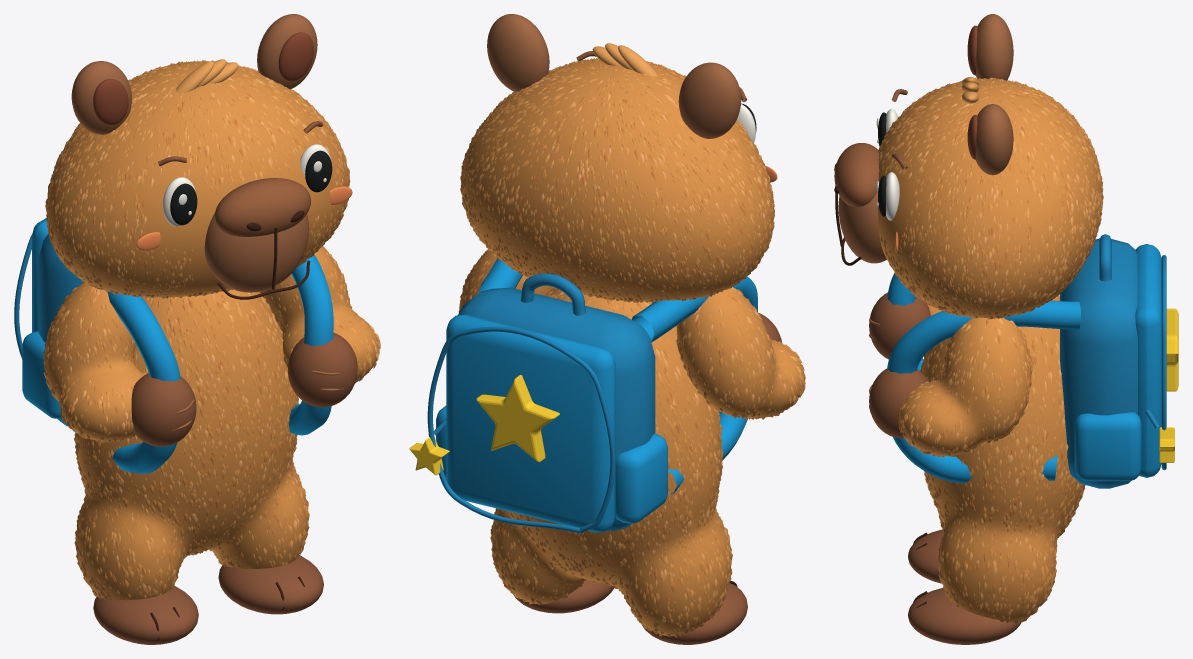
File: mascot.glb
3 views of the same model, side by side, from view 1: azimuth 30°, elevation 25°; view 2: azimuth 150°, elevation 25°; view 3: azimuth 270°, elevation 25° (orthographic). The views are drawn at different scales.
Parts seen in each view (by area): view 1: body_sculpt, head_sculpt, body_sculpt_short_fur, head_sculpt_short_fur, arm_sculpt_-1, vertical_snout, backpack_strap_-1, foot_1, foot_-1, nose_bridge, arm_sculpt_1, hand_1 (+15 smaller); view 2: head_sculpt, backpack_outer_face, body_sculpt, head_sculpt_short_fur, body_sculpt_short_fur, backpack_padded_body, arm_sculpt_-1, backpack_side_pocket_-1, ear_-1, ear_1, backpack_panel_piping, arm_sculpt_-1_short_fur (+9 smaller); view 3: head_sculpt, body_sculpt, head_sculpt_short_fur, backpack_padded_body, arm_sculpt_1, body_sculpt_short_fur, backpack_strap_1, backpack_outer_face, backpack_side_pocket_1, arm_sculpt_1_short_fur, foot_1, nose_bridge (+12 smaller).
Part boxes in pixels (box(x1,y1,x2,y2)): body_sculpt: box(76, 289, 307, 599); head_sculpt: box(46, 61, 348, 297); body_sculpt_short_fur: box(74, 290, 309, 600); head_sculpt_short_fur: box(45, 60, 350, 298); arm_sculpt_-1: box(44, 282, 143, 441); vertical_snout: box(204, 213, 309, 292); backpack_strap_-1: box(73, 291, 180, 473); foot_1: box(218, 555, 323, 614); foot_-1: box(93, 585, 198, 644); nose_bridge: box(214, 178, 311, 236); arm_sculpt_1: box(259, 247, 378, 380); hand_1: box(288, 332, 357, 407); head_sculpt: box(461, 59, 773, 301); backpack_outer_face: box(446, 314, 615, 532); body_sculpt: box(492, 288, 730, 635); head_sculpt_short_fur: box(460, 58, 774, 303); body_sculpt_short_fur: box(490, 287, 732, 637); backpack_padded_body: box(458, 287, 655, 530); arm_sculpt_-1: box(677, 288, 804, 418); backpack_side_pocket_-1: box(615, 433, 667, 523); ear_-1: box(678, 62, 741, 138); ear_1: box(487, 14, 549, 92); backpack_panel_piping: box(427, 326, 615, 533); arm_sculpt_-1_short_fur: box(676, 287, 805, 419); head_sculpt: box(877, 78, 1101, 317); body_sculpt: box(922, 296, 1084, 622); head_sculpt_short_fur: box(878, 77, 1103, 319); backpack_padded_body: box(1060, 238, 1137, 488); arm_sculpt_1: box(899, 317, 1031, 455); body_sculpt_short_fur: box(920, 295, 1085, 623); backpack_strap_1: box(887, 300, 1080, 483); backpack_outer_face: box(1135, 244, 1161, 477); backpack_side_pocket_1: box(1074, 412, 1141, 481); arm_sculpt_1_short_fur: box(897, 317, 1032, 457); foot_1: box(908, 588, 1020, 644); nose_bridge: box(834, 143, 879, 207).
Size of the model in its own units: 1.08 by 1.9 by 1.08.
